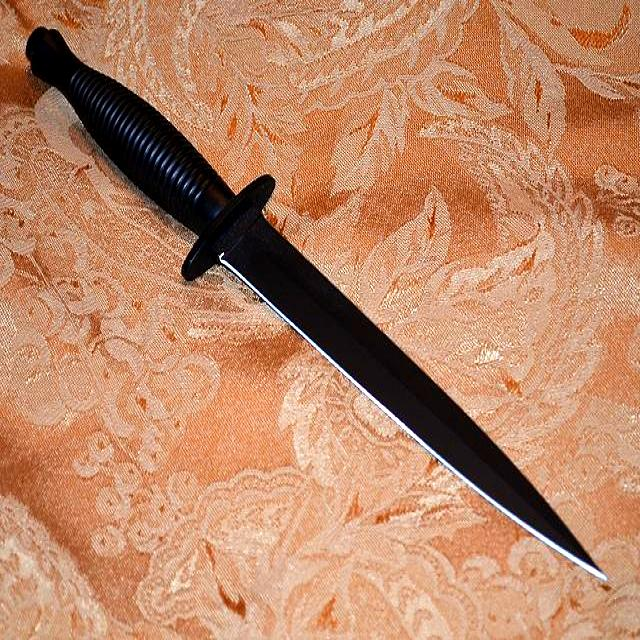short sword: (14, 11, 620, 594)
